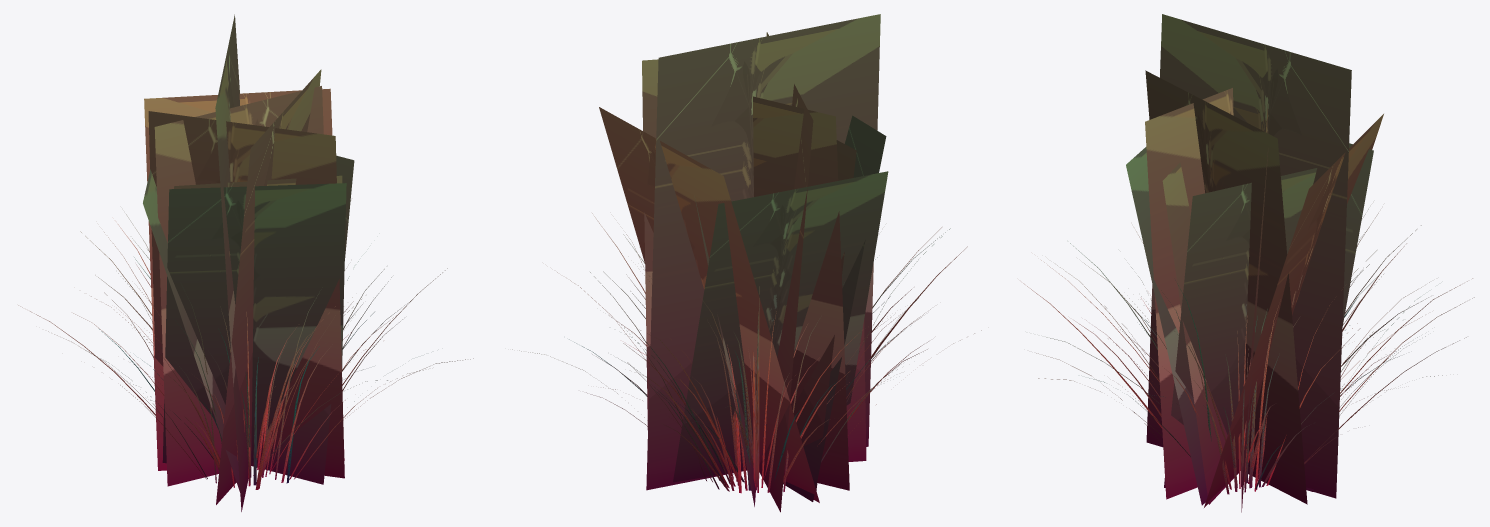
Rendered from asset.glb.
3 renders of one model, left to right at view 1: azimuth 30°, elevation 25°; view 2: azimuth 150°, elevation 25°; view 3: azimuth 270°, elevation 25°, orthographic. The views are drawn at different scales.
Parts seen in each view (by area): view 1: mountain_bunchgrass_LOD0; view 2: mountain_bunchgrass_LOD0; view 3: mountain_bunchgrass_LOD0.
Part boxes in pixels (x1,y1,x2,y2): mountain_bunchgrass_LOD0: (18, 14, 473, 511); mountain_bunchgrass_LOD0: (512, 14, 981, 512); mountain_bunchgrass_LOD0: (1023, 14, 1474, 512).
Bounding box in the file's own units: 0.5288 × 0.5451 × 0.5402.
Materials: 1 (1 with a texture image).
